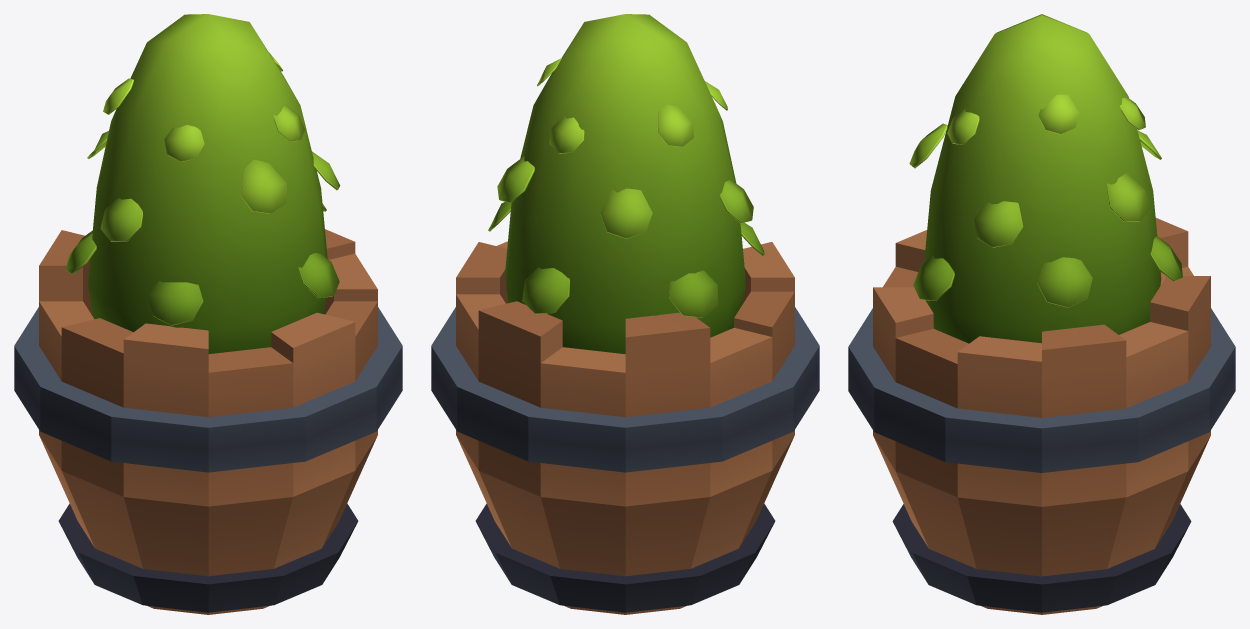
Rendered from mt_prop_plant02.fbx.
3 renders of one model, left to right at view 1: azimuth 30°, elevation 25°; view 2: azimuth 150°, elevation 25°; view 3: azimuth 270°, elevation 25°, orthographic.
Parts seen in each view (by area): view 1: prop_plant02; view 2: prop_plant02; view 3: prop_plant02.
Boxes of the visible parts, x1,y1,x2,y2 form: prop_plant02: (14, 14, 402, 614); prop_plant02: (431, 14, 819, 614); prop_plant02: (848, 14, 1235, 614).
Bounding box in the file's own units: 89.65 × 141 × 89.65.
